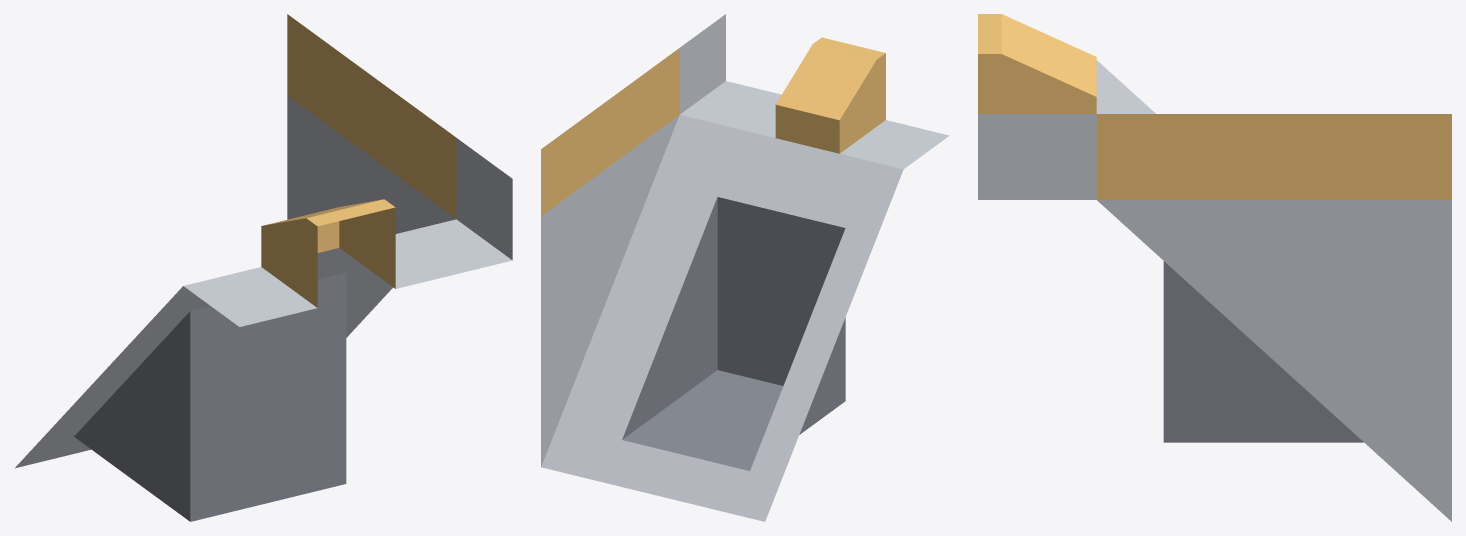
3 renders of one model, left to right at view 1: azimuth 30°, elevation 25°; view 2: azimuth 150°, elevation 25°; view 3: azimuth 270°, elevation 25°, orthographic. The views are drawn at different scales.
Size of the model in its own units: 0.7 by 0.95 by 1.
